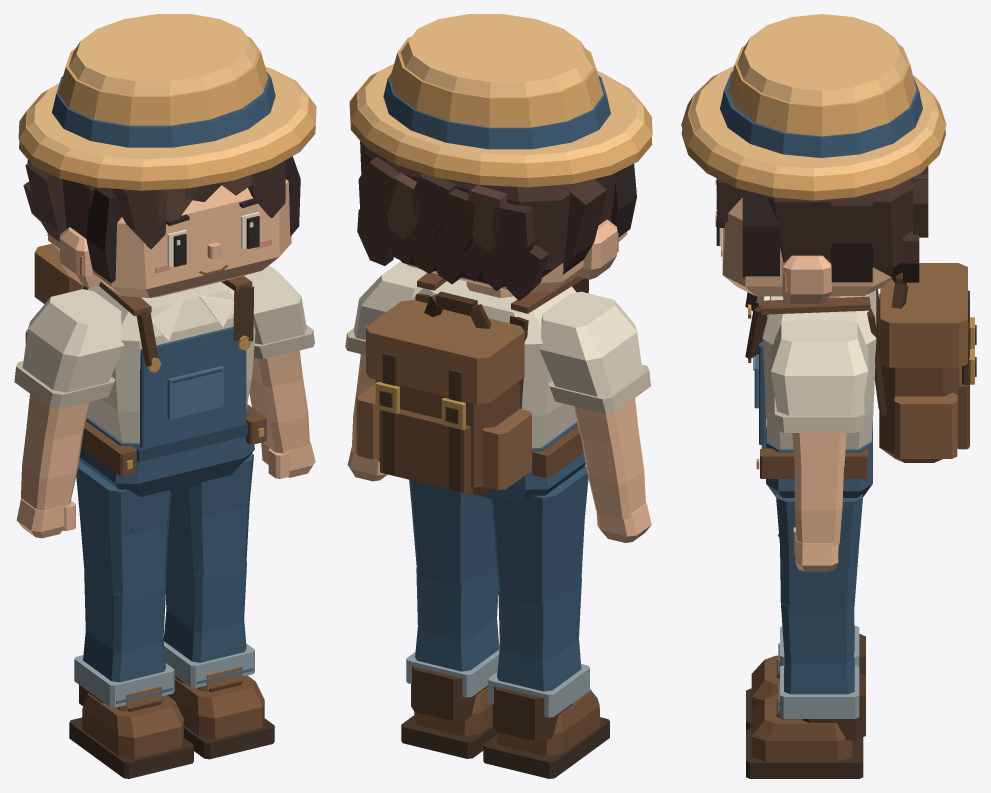
The model's file is player_character.glb.
The picture shows the model from 3 angles, left to right: view 1: azimuth 30°, elevation 25°; view 2: azimuth 150°, elevation 25°; view 3: azimuth 270°, elevation 25°; orthographic projection.
Visible parts, largest first — view 1: Hat_straw_light, Head_skin, Hat_straw, Thigh_L_denim, Arm_L_shirt, Spine_denim, Thigh_R_denim, Head_hair, Spine_shirt, Shin_L_denim, Shin_R_denim, Hat_denim (+29 smaller); view 2: Head_hair, Hat_straw_light, Backpack_leather_light, Hat_straw, Thigh_L_denim, Arm_L_shirt, Backpack_leather, Thigh_R_denim, Shin_L_denim, Shin_R_denim, Hat_denim, Spine_shirt (+24 smaller); view 3: Hat_straw_light, Head_hair, Backpack_leather_light, Hat_straw, Arm_R_shirt, Shin_R_denim, Thigh_R_denim, Head_skin, Hat_denim, Foot_R_leather, Backpack_leather, Spine_shirt (+16 smaller).
Part boxes in pixels (x1,y1,x2,y2): Hat_straw_light: [27, 14, 308, 167]; Head_skin: [47, 179, 291, 297]; Hat_straw: [18, 36, 316, 181]; Thigh_L_denim: [76, 460, 171, 600]; Arm_L_shirt: [22, 289, 123, 392]; Spine_denim: [140, 326, 246, 448]; Thigh_R_denim: [167, 453, 253, 580]; Head_hair: [23, 160, 285, 249]; Spine_shirt: [87, 282, 255, 443]; Shin_L_denim: [83, 572, 166, 682]; Shin_R_denim: [163, 560, 246, 662]; Hat_denim: [52, 71, 275, 147]; Head_hair: [357, 141, 617, 300]; Hat_straw_light: [358, 14, 643, 163]; Backpack_leather_light: [356, 300, 531, 490]; Hat_straw: [349, 36, 652, 177]; Thigh_L_denim: [491, 465, 588, 606]; Arm_L_shirt: [539, 291, 642, 396]; Backpack_leather: [375, 379, 519, 495]; Thigh_R_denim: [409, 479, 496, 586]; Shin_L_denim: [497, 579, 581, 691]; Shin_R_denim: [415, 566, 499, 671]; Hat_denim: [383, 73, 610, 149]; Spine_shirt: [413, 279, 576, 448]; Hat_straw_light: [689, 14, 938, 176]; Head_hair: [718, 166, 928, 282]; Backpack_leather_light: [880, 263, 967, 458]; Hat_straw: [681, 44, 946, 191]; Arm_R_shirt: [771, 320, 868, 415]; Shin_R_denim: [781, 603, 854, 694]; Thigh_R_denim: [776, 494, 862, 610]; Head_skin: [715, 197, 892, 303]; Hat_denim: [720, 71, 922, 157]; Foot_R_leather: [751, 695, 852, 761]; Backpack_leather: [879, 293, 969, 462]; Spine_shirt: [762, 290, 876, 449].
Bounding box in the file's own units: 0.692 × 1.59 × 0.6195.
